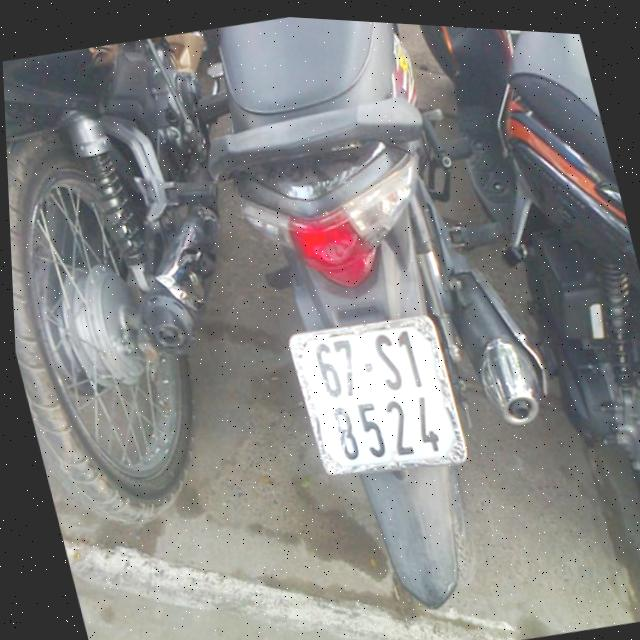motorcycle: (188, 11, 607, 640), (1, 20, 314, 558), (411, 24, 640, 637)
plate: (279, 296, 477, 496)
